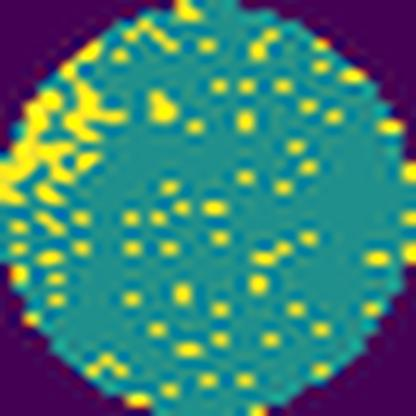Edge-Loc: (0, 81, 103, 207), (55, 35, 128, 153)
